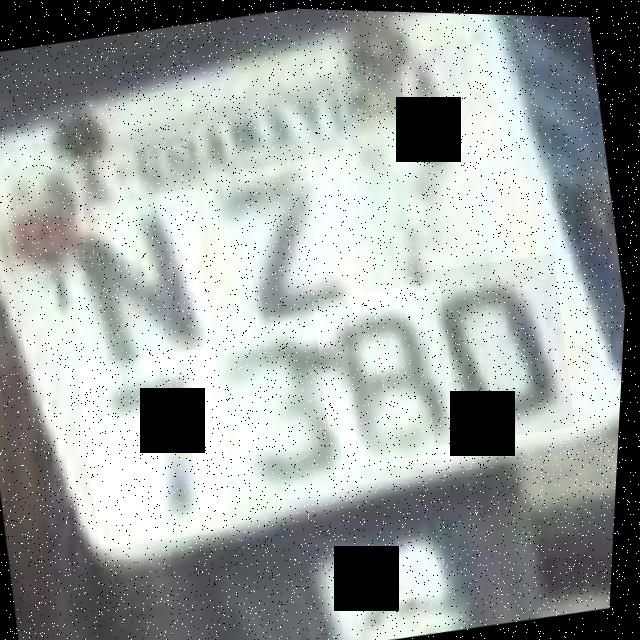0: (410, 246, 586, 447)
3: (174, 305, 376, 516)
7: (73, 343, 244, 551)
8: (309, 276, 473, 475)
N: (57, 184, 228, 392)
Z: (195, 148, 375, 331)
